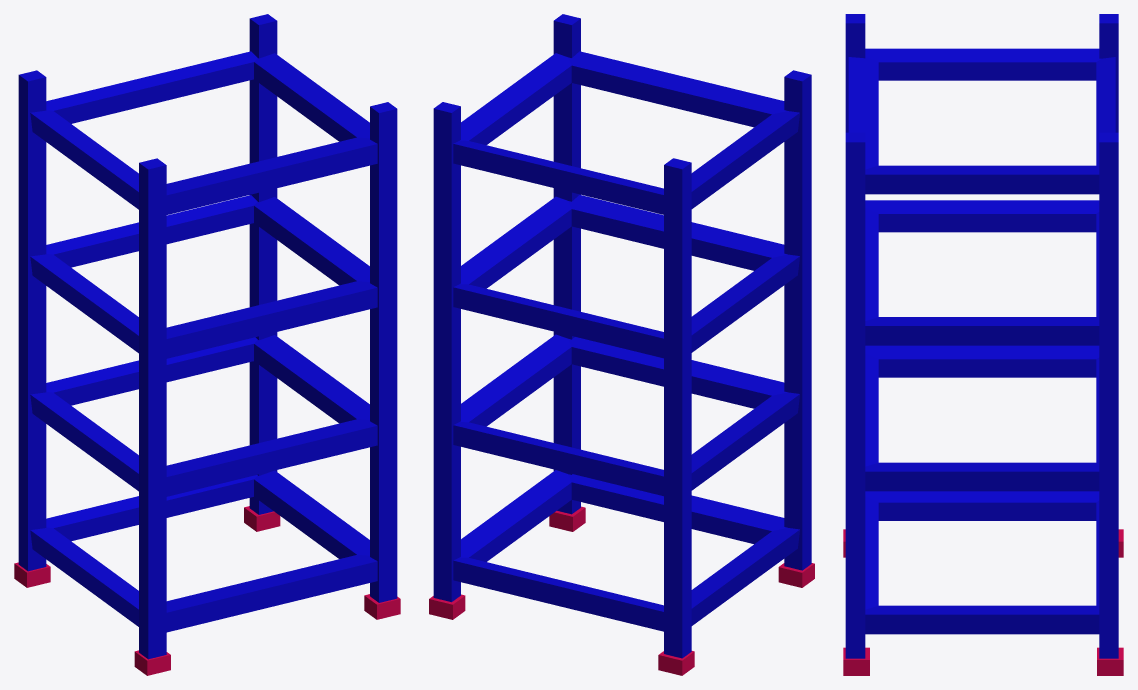
File: PAEA01_TechRoom_Furniture_01d.fbx
3 renders of one model, left to right at view 1: azimuth 30°, elevation 25°; view 2: azimuth 150°, elevation 25°; view 3: azimuth 270°, elevation 25°, orthographic. The views are drawn at different scales.
Visible parts, largest first — view 1: PAEA01_TechRoom_Furniture_01d; view 2: PAEA01_TechRoom_Furniture_01d; view 3: PAEA01_TechRoom_Furniture_01d.
Part boxes in pixels (<box>): PAEA01_TechRoom_Furniture_01d: <box>14,14,400,675</box>; PAEA01_TechRoom_Furniture_01d: <box>429,14,814,675</box>; PAEA01_TechRoom_Furniture_01d: <box>843,14,1123,675</box>.
Bounding box in the file's own units: 2.24 × 4.27 × 2.04.
